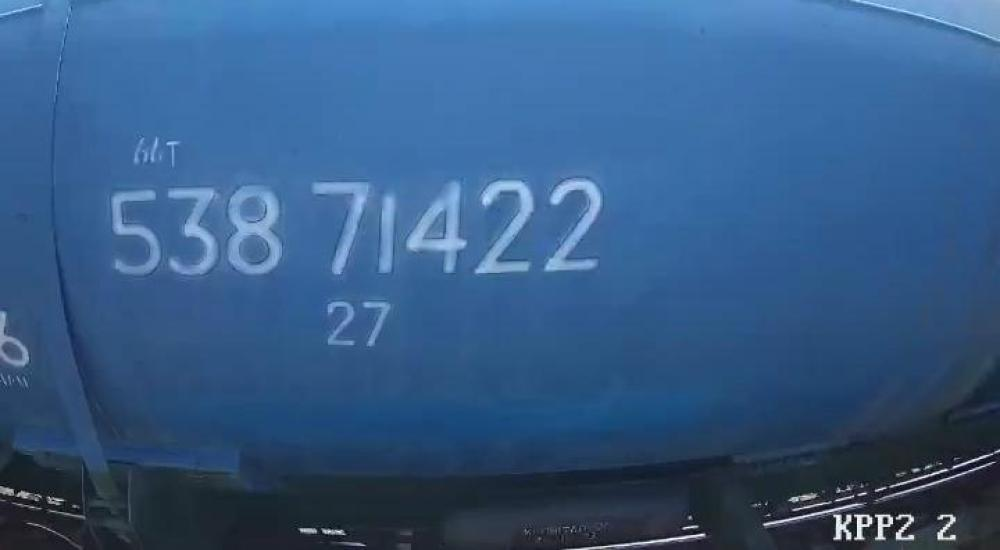Wagon-number: (105, 173, 605, 279)
